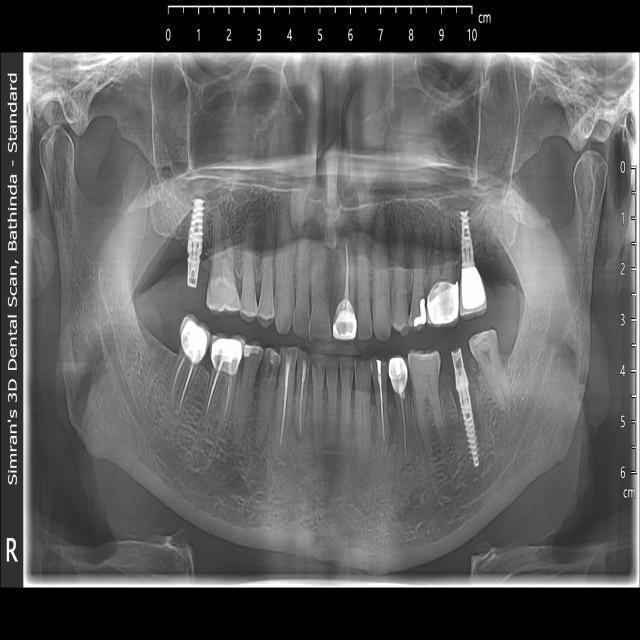dolgu: (406, 298, 429, 330), (243, 335, 265, 362)
implant: (448, 348, 487, 471), (455, 209, 494, 318), (185, 188, 208, 285)
kanal-tedavisi: (169, 354, 199, 410), (206, 365, 234, 424), (274, 360, 293, 441), (334, 240, 357, 304), (394, 391, 412, 464), (373, 364, 389, 444), (296, 360, 308, 436)
kaplama: (424, 280, 461, 323), (177, 315, 210, 362), (206, 333, 243, 374), (330, 301, 360, 343), (383, 352, 409, 398)
